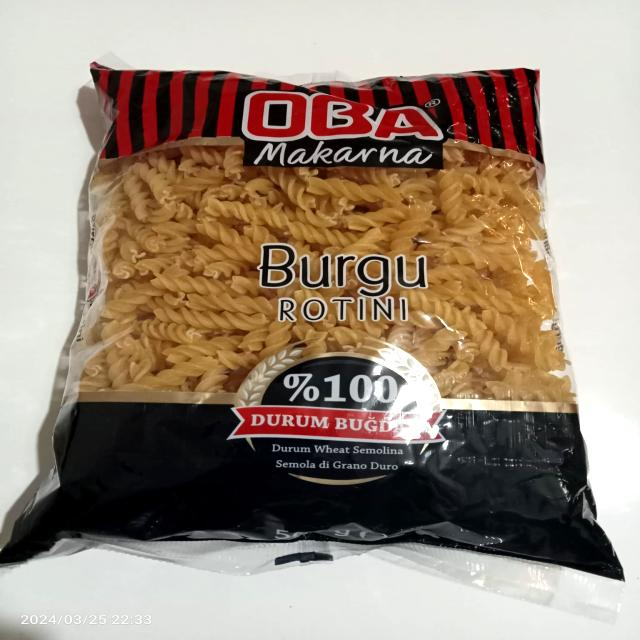fusilli pasta: (87, 70, 574, 554)
